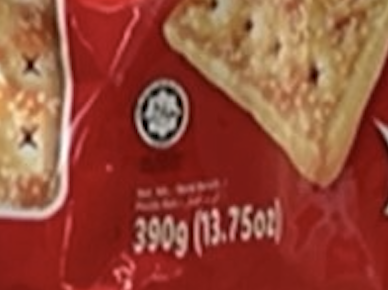halal: (147, 95, 178, 125)
